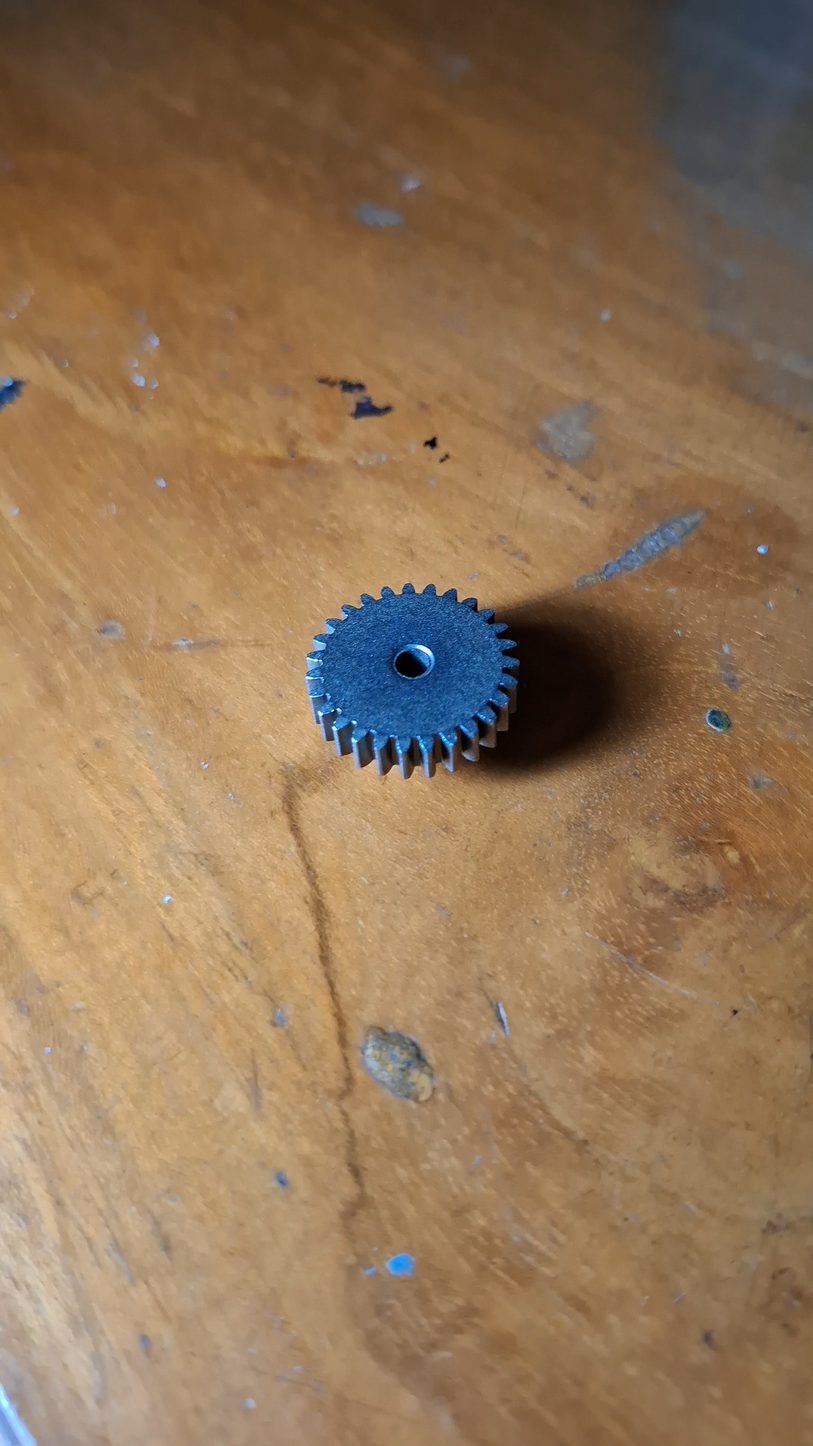spur gear: (307, 584, 519, 778)
